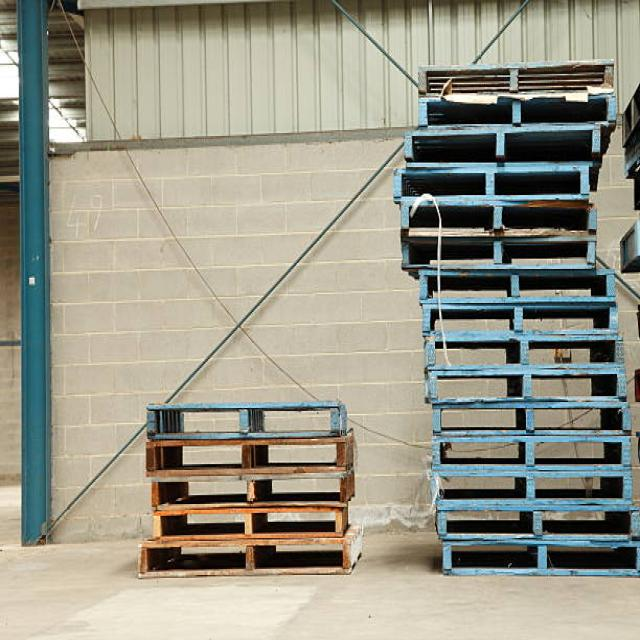Wooden-Pallets: (432, 529, 640, 585), (125, 538, 361, 581), (428, 429, 636, 473), (413, 368, 632, 409), (141, 399, 346, 441), (427, 504, 640, 544), (142, 440, 352, 479), (148, 467, 352, 507), (383, 167, 597, 204), (137, 504, 347, 541), (398, 127, 606, 164), (415, 275, 615, 303)
